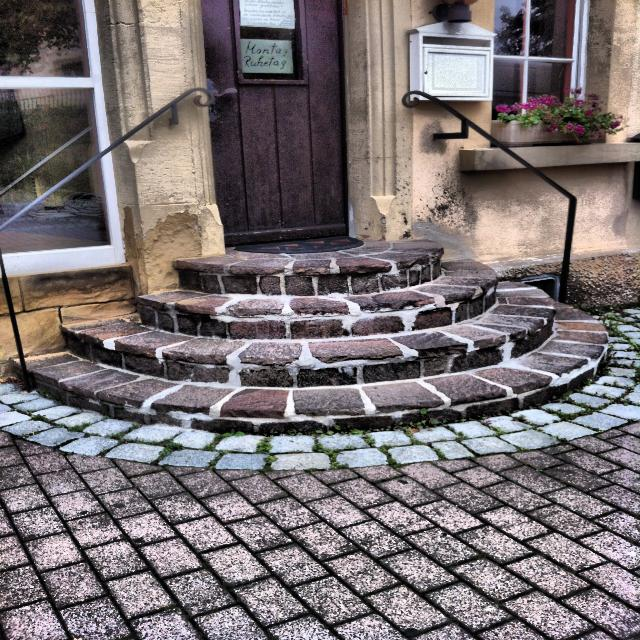escada: (8, 259, 610, 434)
